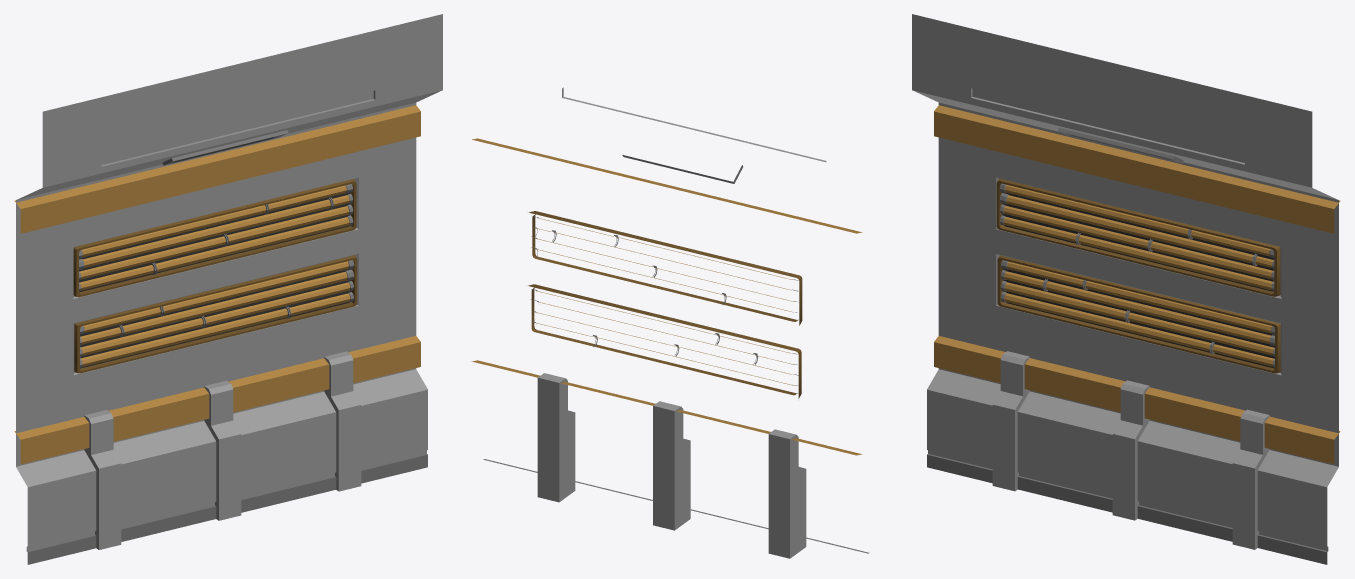
The model's file is Wall_5.glb.
The picture shows the model from 3 angles, left to right: view 1: azimuth 30°, elevation 25°; view 2: azimuth 150°, elevation 25°; view 3: azimuth 330°, elevation 25°; orthographic projection. The views are drawn at different scales.
Visible parts, largest first — view 1: Wall_5_Plane.113; view 2: Wall_5_Plane.113; view 3: Wall_5_Plane.113.
Part boxes in pixels (x1,y1,x2,y2): Wall_5_Plane.113: (14,14,442,564); Wall_5_Plane.113: (471,87,869,558); Wall_5_Plane.113: (912,14,1340,564).
Bounding box in the file's own units: 4 × 4.43 × 0.5279.
